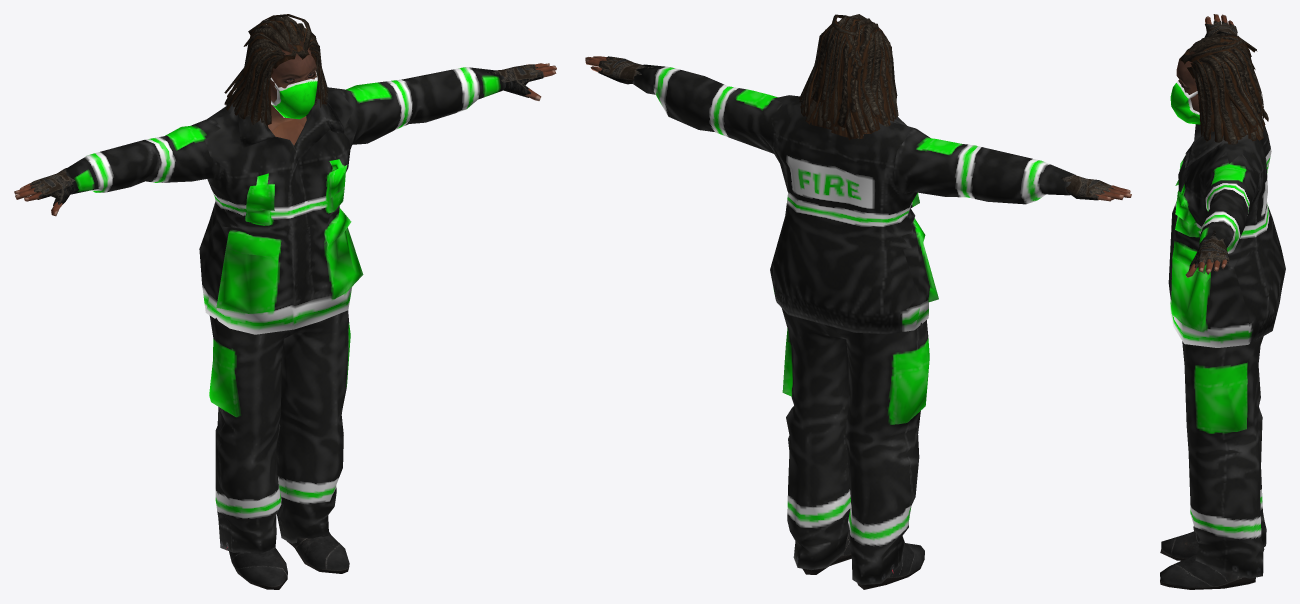
Rendered from CoronaGuy.fbx.
3 renders of one model, left to right at view 1: azimuth 30°, elevation 25°; view 2: azimuth 150°, elevation 25°; view 3: azimuth 270°, elevation 25°, orthographic. The views are drawn at different scales.
Visible parts, largest first — view 1: Coronaguy 2; view 2: Coronaguy 2; view 3: Coronaguy 2.
Part boxes in pixels (x1,y1,x2,y2): Coronaguy 2: (14, 14, 556, 589); Coronaguy 2: (585, 14, 1131, 589); Coronaguy 2: (1160, 14, 1285, 589).
Bounding box in the file's own units: 19255 × 18509 × 3959.
Materials: 1 (1 with a texture image).
